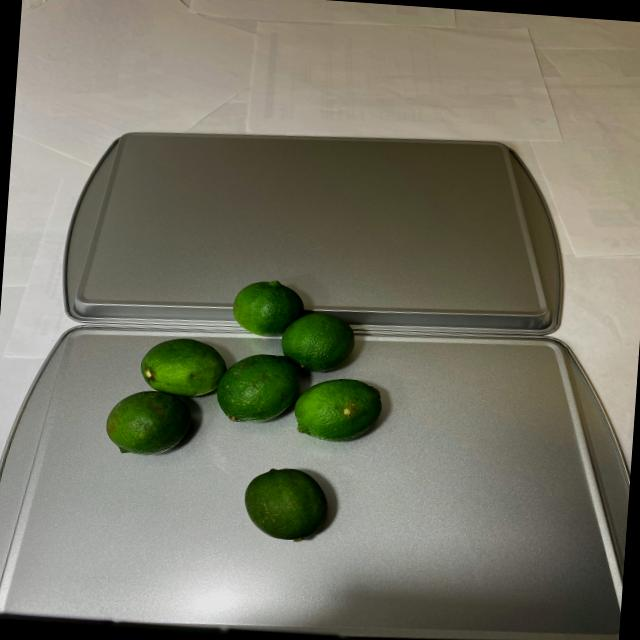lemon: (94, 268, 395, 550)
